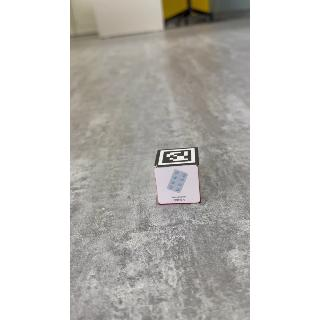Tablet: (156, 166, 200, 205)
